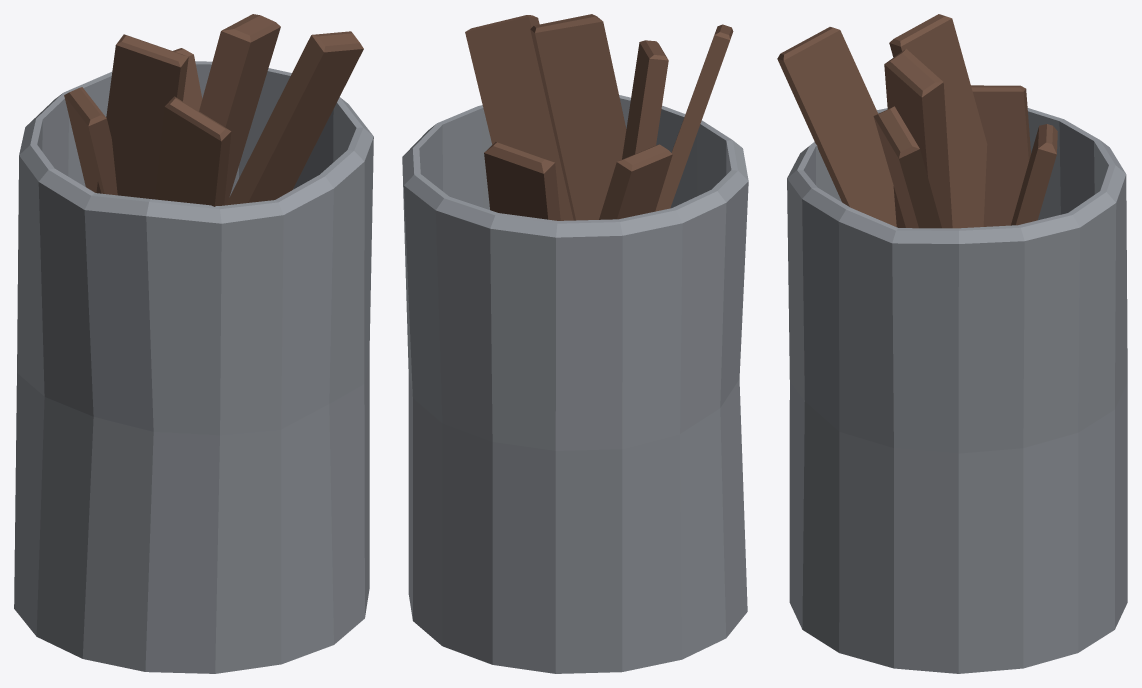
The model's file is Trashcan.fbx.
3 views of the same model, side by side, from view 1: azimuth 30°, elevation 25°; view 2: azimuth 150°, elevation 25°; view 3: azimuth 270°, elevation 25° (orthographic). The views are drawn at different scales.
Parts seen in each view (by area): view 1: Cube.004; view 2: Cube.004; view 3: Cube.004.
Boxes of the visible parts, bbox=[...] form: Cube.004: bbox=[14, 14, 373, 673]; Cube.004: bbox=[402, 14, 748, 673]; Cube.004: bbox=[777, 14, 1127, 673].
Bounding box in the file's own units: 50.44 × 90.93 × 52.01.
